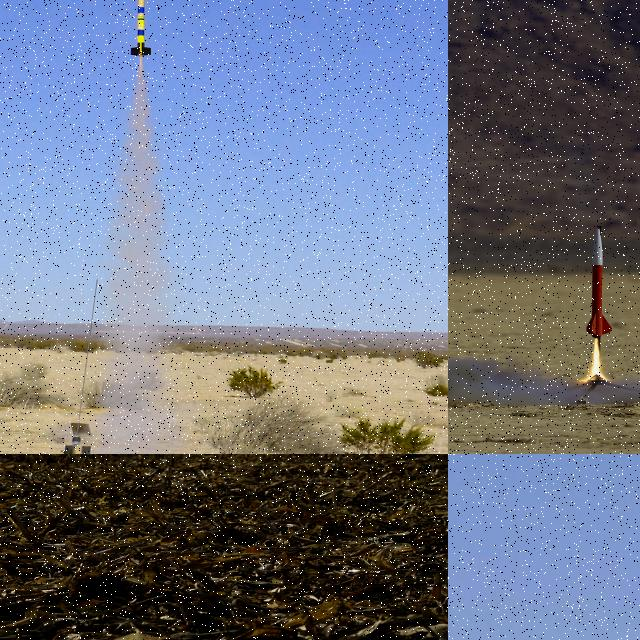Rocket: (586, 224, 613, 338), (128, 0, 152, 57)
